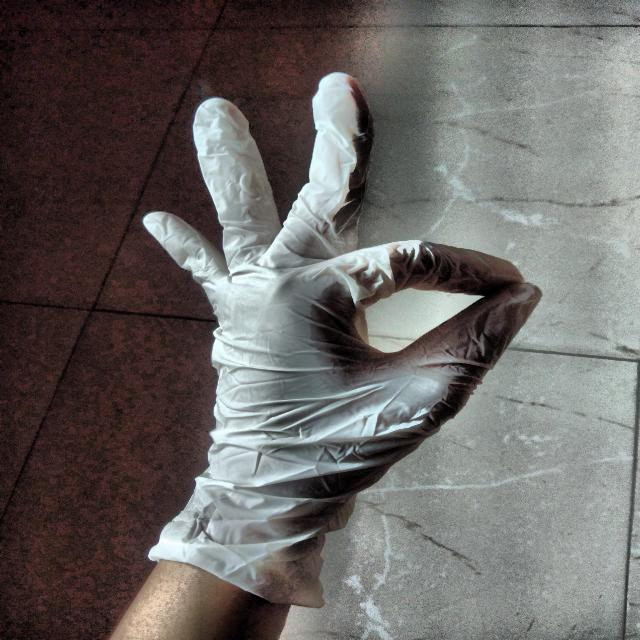gloved: (132, 67, 544, 617)
